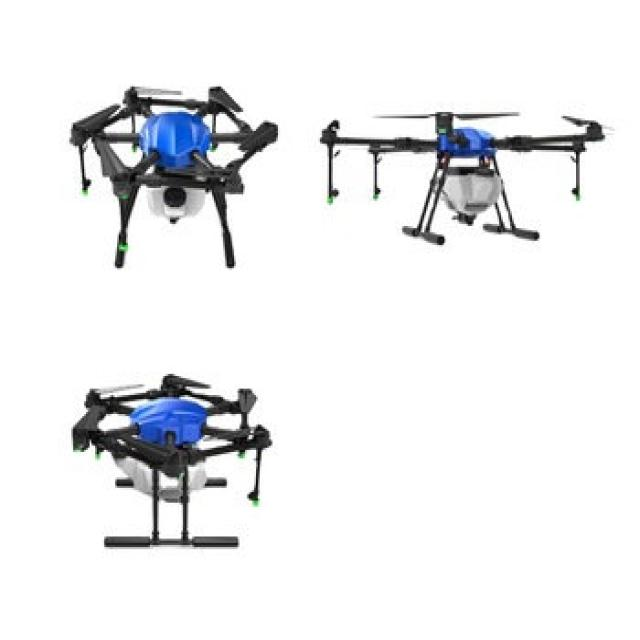drone: (37, 370, 308, 570), (67, 62, 304, 283), (312, 90, 598, 271)
